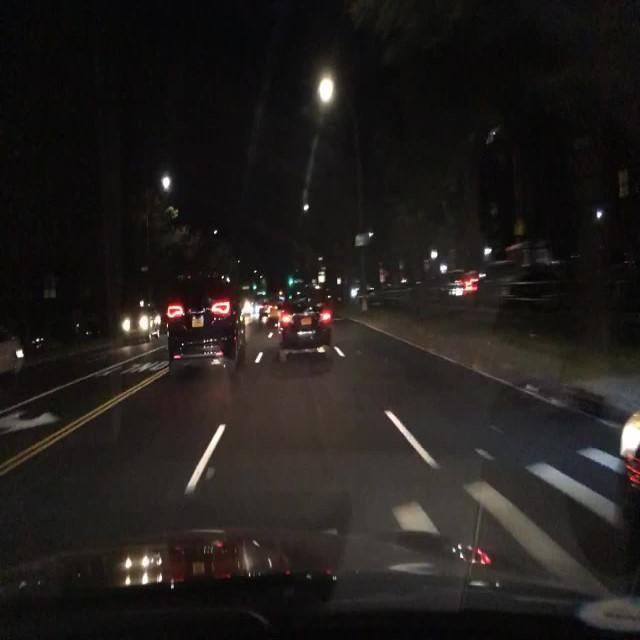normal: (140, 259, 373, 384), (474, 239, 565, 314)
